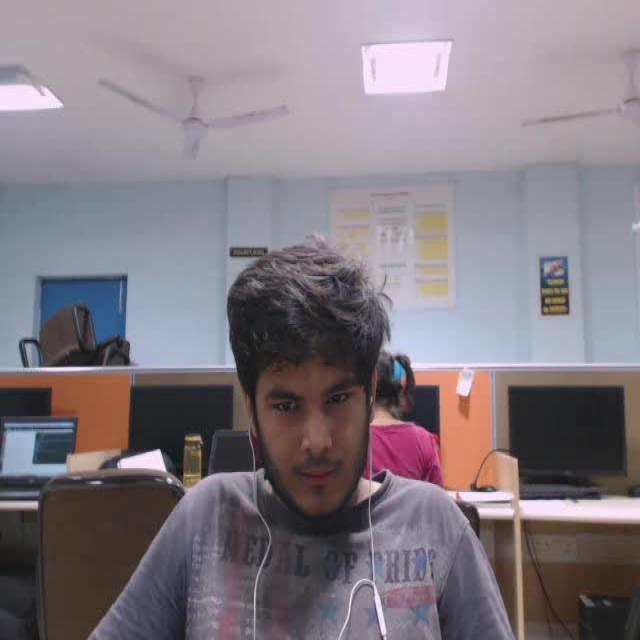Engaged: (196, 229, 462, 573)
